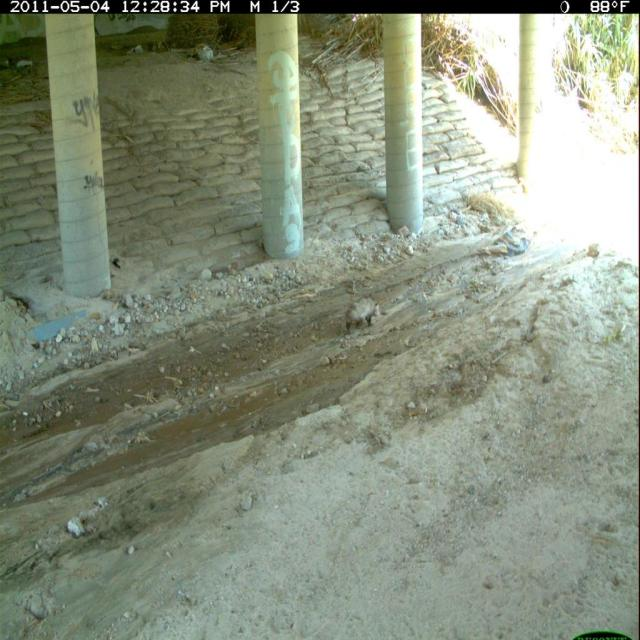opossum: (342, 294, 383, 339)
